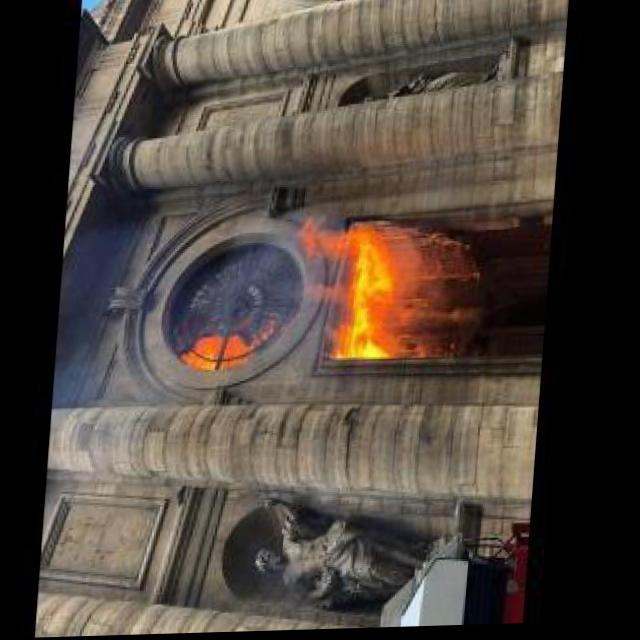Fire: (293, 212, 422, 371), (176, 327, 261, 380)
